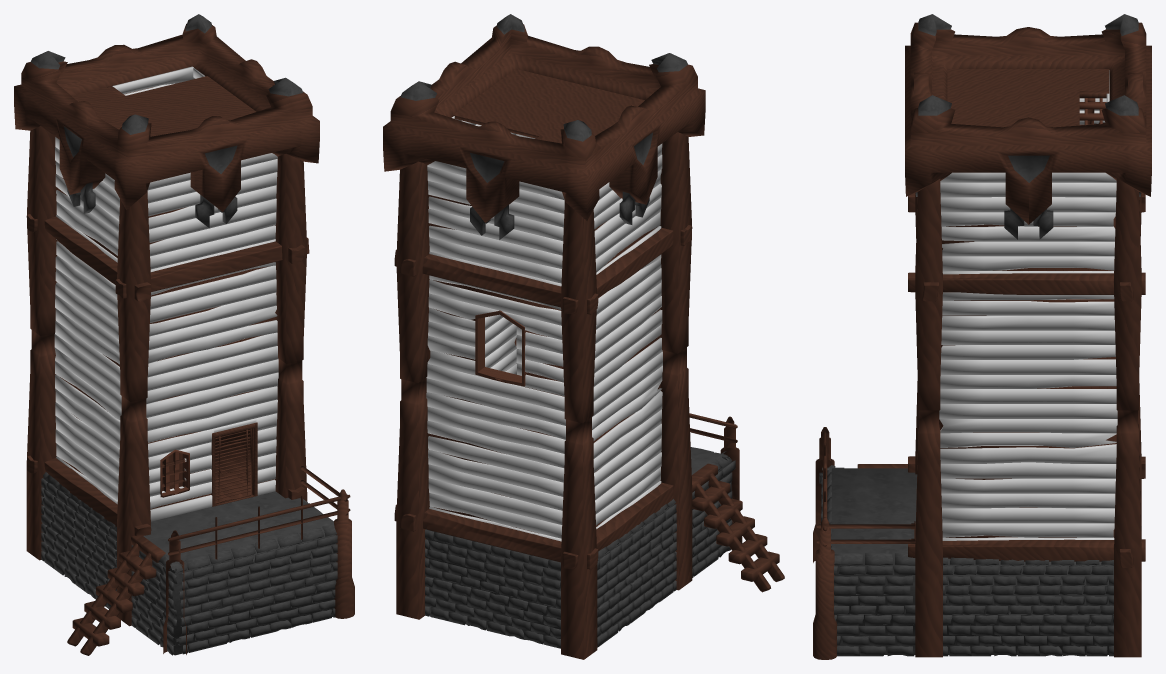
The model's file is Tower.fbx.
3 renders of one model, left to right at view 1: azimuth 30°, elevation 25°; view 2: azimuth 150°, elevation 25°; view 3: azimuth 270°, elevation 25°, orthographic. The views are drawn at different scales.
Visible parts, largest first — view 1: Tower, Door; view 2: Tower; view 3: Tower.
Boxes of the visible parts, x1,y1,x2,y2 form: Tower: (14,14,354,655); Door: (215,428,251,504); Tower: (383,14,784,659); Tower: (813,14,1151,659).
Size of the model in its own units: 325 by 616 by 341.
